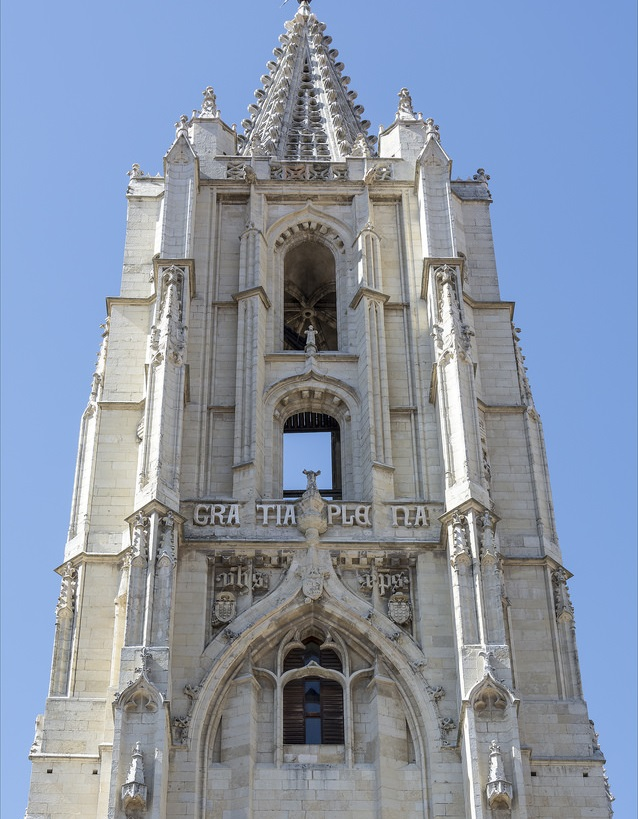arco-apuntado: (193, 600, 436, 771)
arco-conopial: (266, 366, 361, 400), (266, 201, 355, 235), (114, 670, 168, 703), (464, 669, 518, 699)
